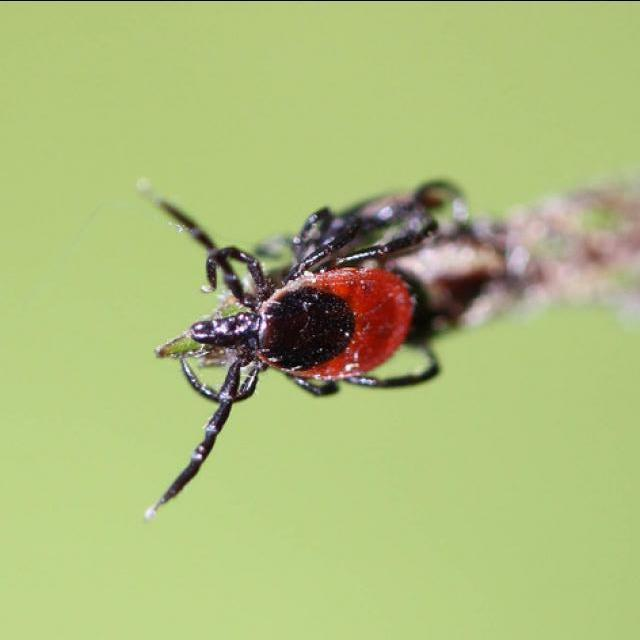Ixodes Ricinus-F: (137, 174, 442, 518)
